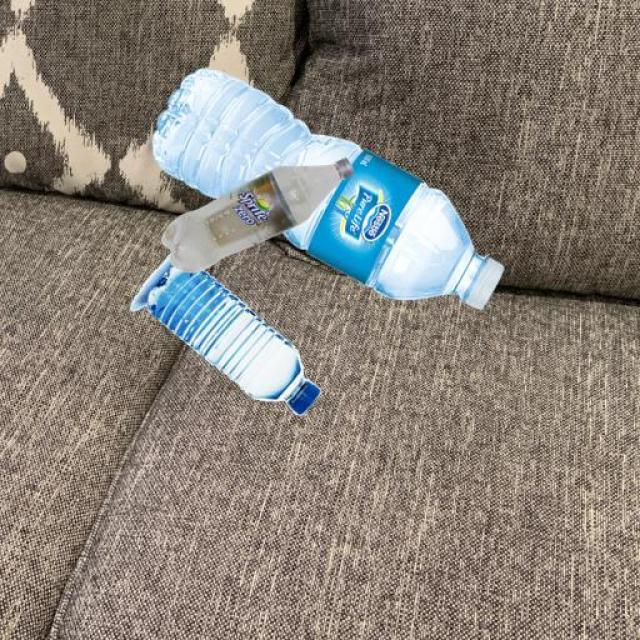bottle: (132, 70, 528, 308), (127, 256, 341, 424), (163, 154, 361, 265)
